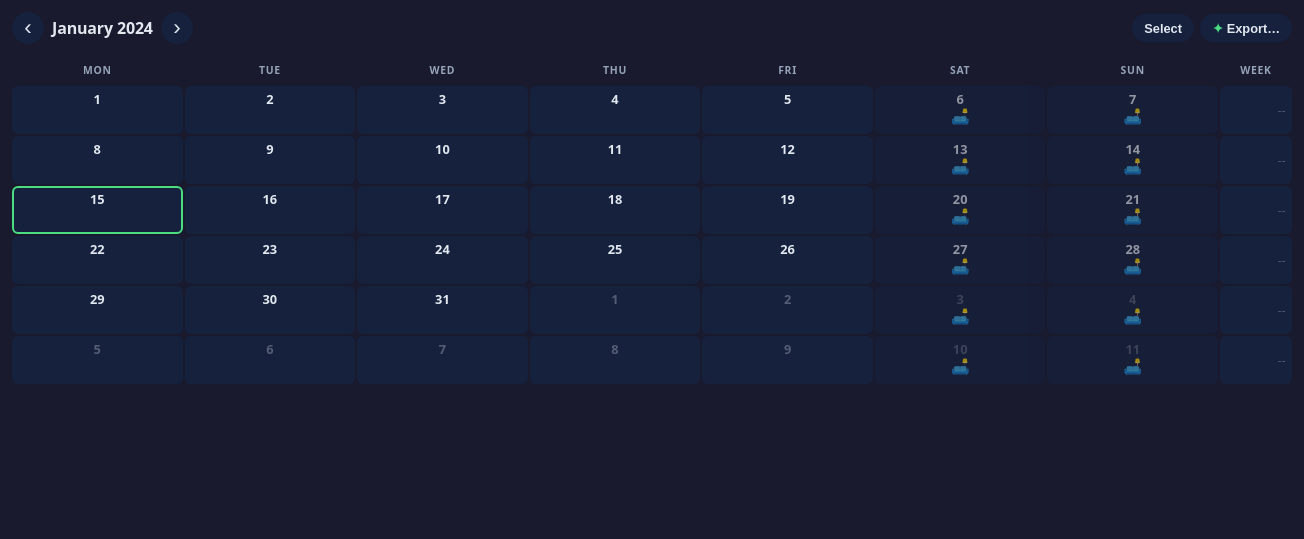
CalendarView › pro range export › closes the panel when the export button is toggled again
Click the button titled "Export a custom date range as CSV, PDF, or ICS": (1246, 28) top-left (1200, 14), bottom-right (1292, 42)
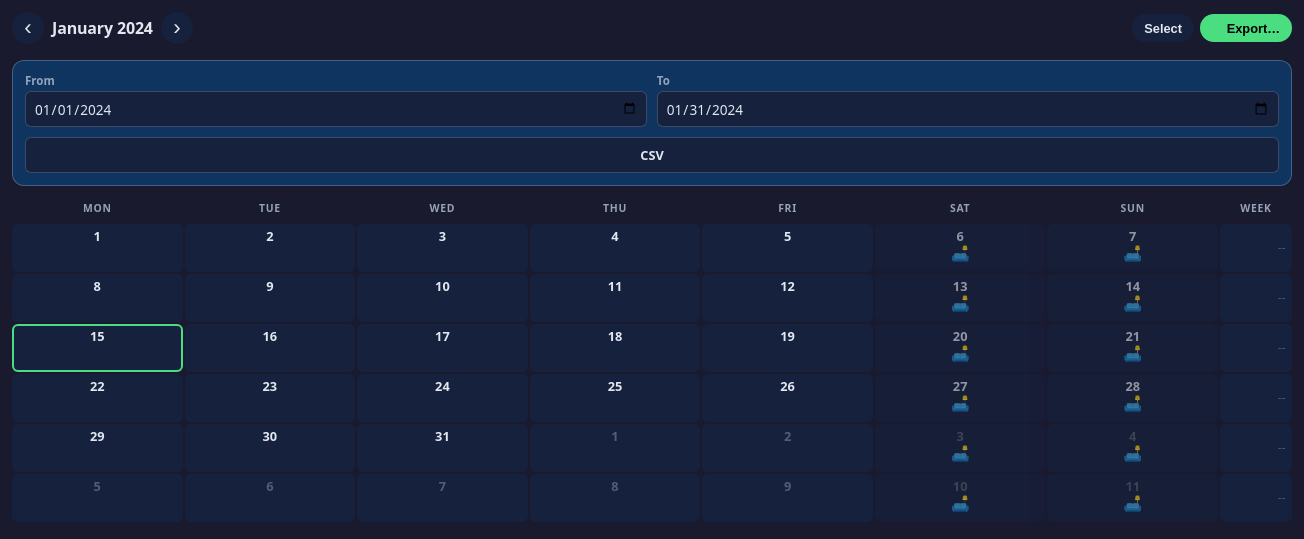
Check: the date field labelled "From" is shown, box top-left (25, 91), bottom-right (647, 127)
Click the button titled "Export a custom date range as CSV, PDF, or ICS": (1246, 28) top-left (1200, 14), bottom-right (1292, 42)
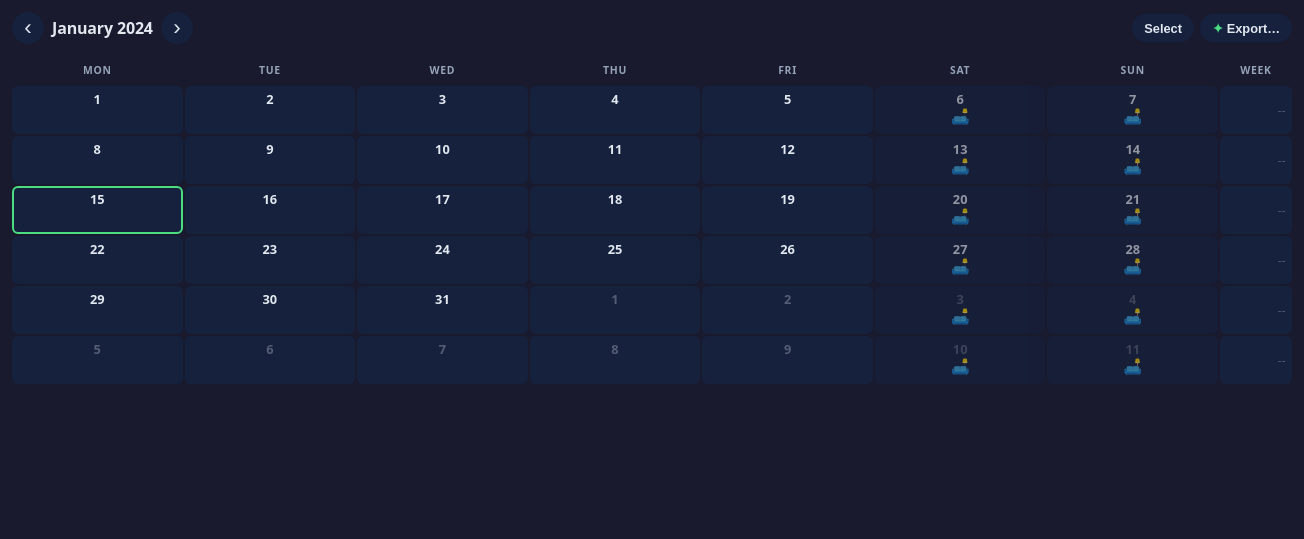
Check: the text labelled "From" is gone
